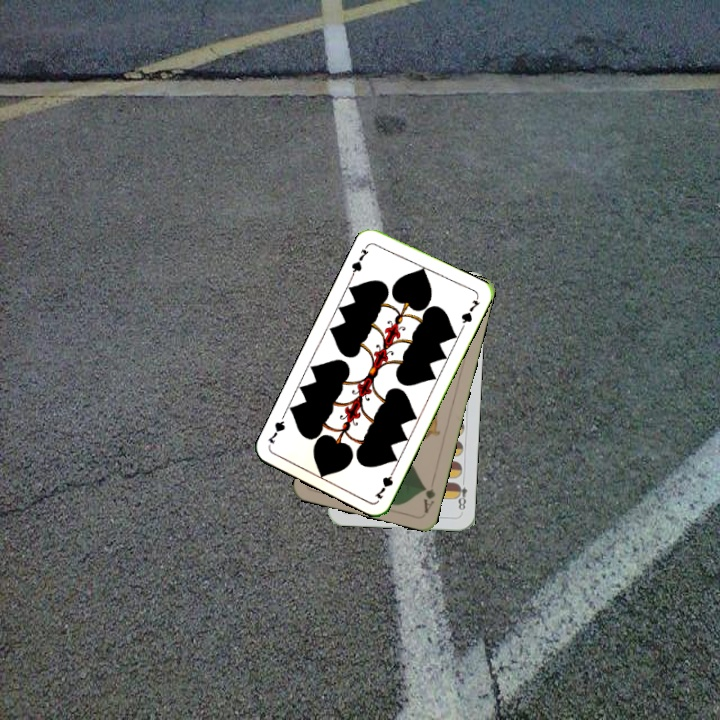E8: (452, 475, 469, 513)
G7: (371, 464, 398, 502), (347, 244, 371, 279)
GA: (419, 482, 438, 515)
